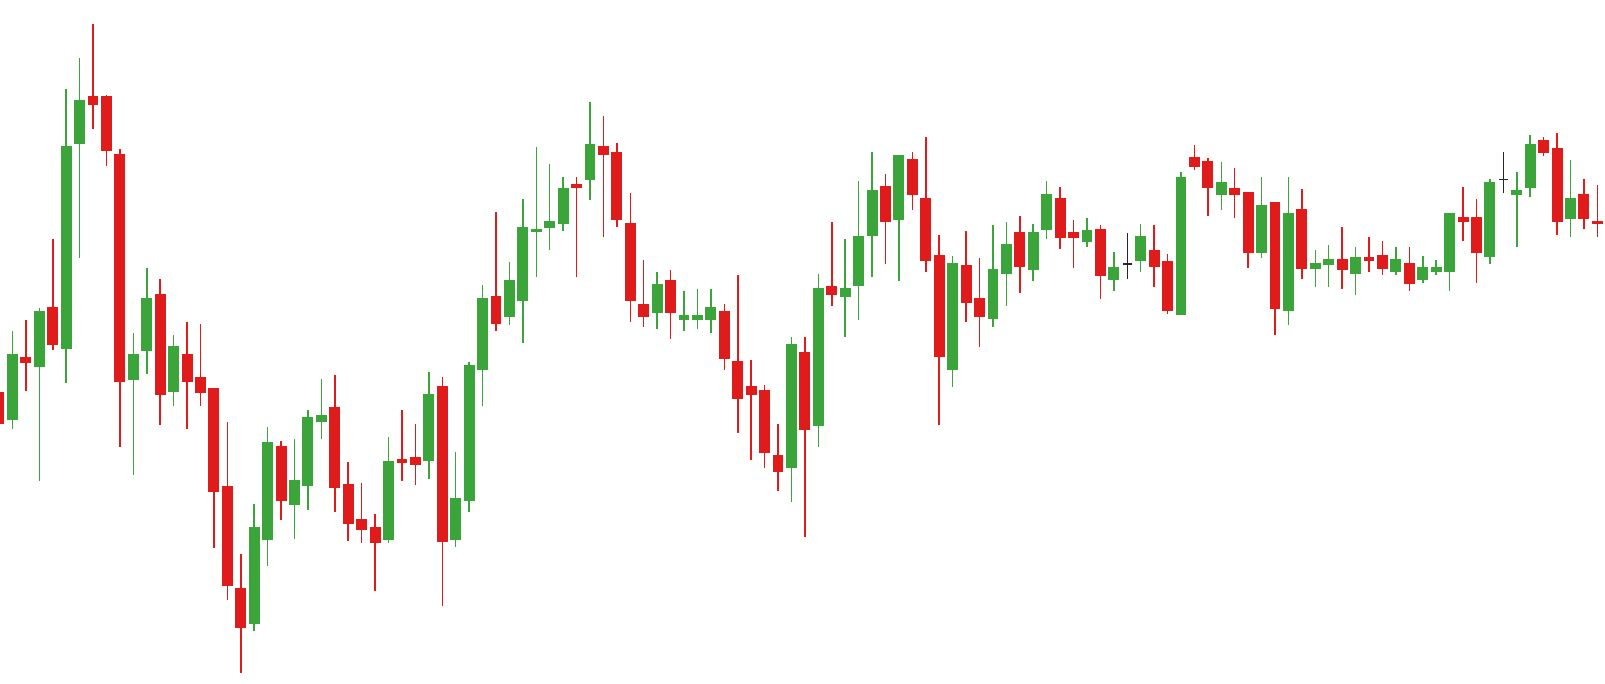buy: (840, 205, 960, 441), (1161, 197, 1296, 341), (366, 447, 463, 614)
sell: (530, 95, 608, 248)
